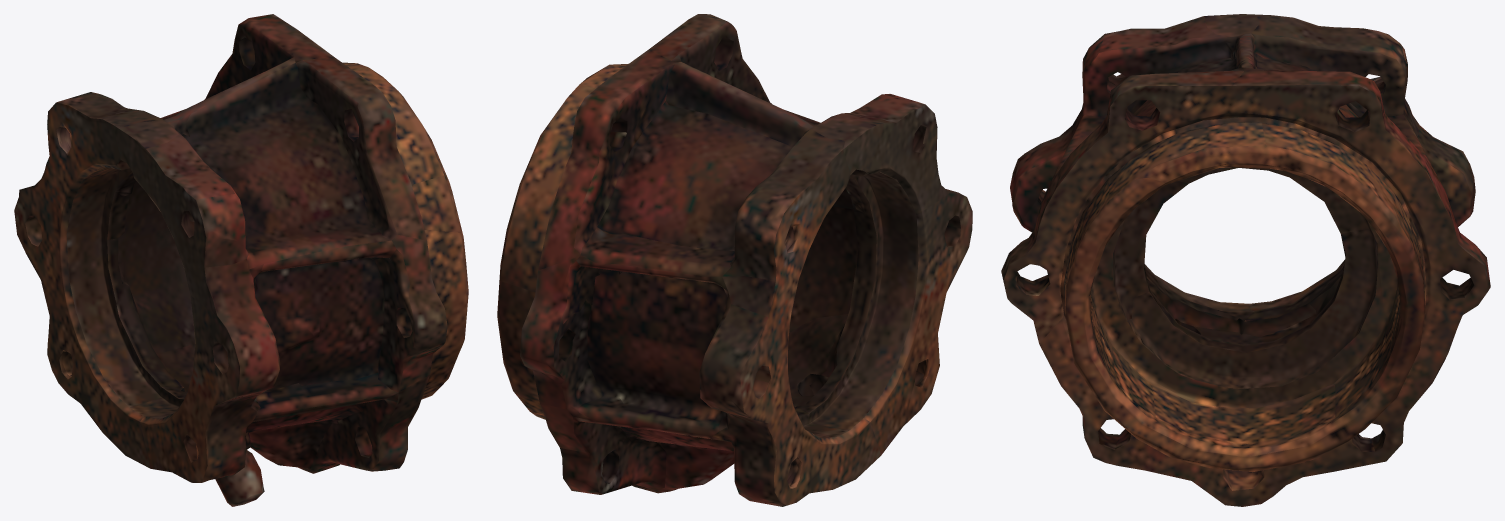
Rendered from SM_Ind_Jun_Scrap_Cover_Metal_Weathered_01.gltf.
The picture shows the model from 3 angles, left to right: view 1: azimuth 30°, elevation 25°; view 2: azimuth 150°, elevation 25°; view 3: azimuth 270°, elevation 25°; orthographic projection. The views are drawn at different scales.
Parts seen in each view (by area): view 1: SM_Ind_Jun_Scrap_Cover_Metal_Weathered_01; view 2: SM_Ind_Jun_Scrap_Cover_Metal_Weathered_01; view 3: SM_Ind_Jun_Scrap_Cover_Metal_Weathered_01.
Part boxes in pixels (left/top/right/bottom): SM_Ind_Jun_Scrap_Cover_Metal_Weathered_01: left=14, top=14, right=468, bottom=506; SM_Ind_Jun_Scrap_Cover_Metal_Weathered_01: left=497, top=14, right=972, bottom=506; SM_Ind_Jun_Scrap_Cover_Metal_Weathered_01: left=1001, top=14, right=1490, bottom=506.
Bounding box in the file's own units: 0.0955 × 0.1445 × 0.1508.
Materials: 1 (1 with a texture image).
